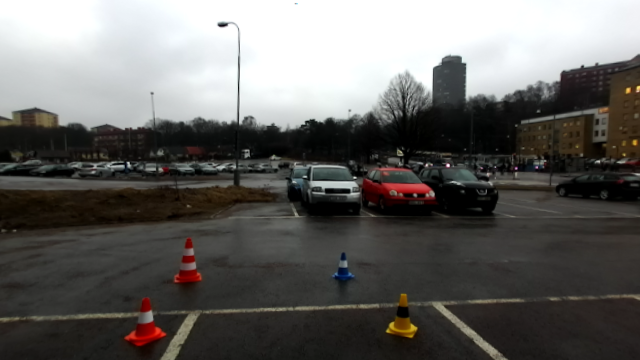blue: (331, 252, 354, 282)
orange: (124, 297, 165, 347)
orange2: (174, 238, 203, 283)
yellow: (384, 291, 419, 339)
